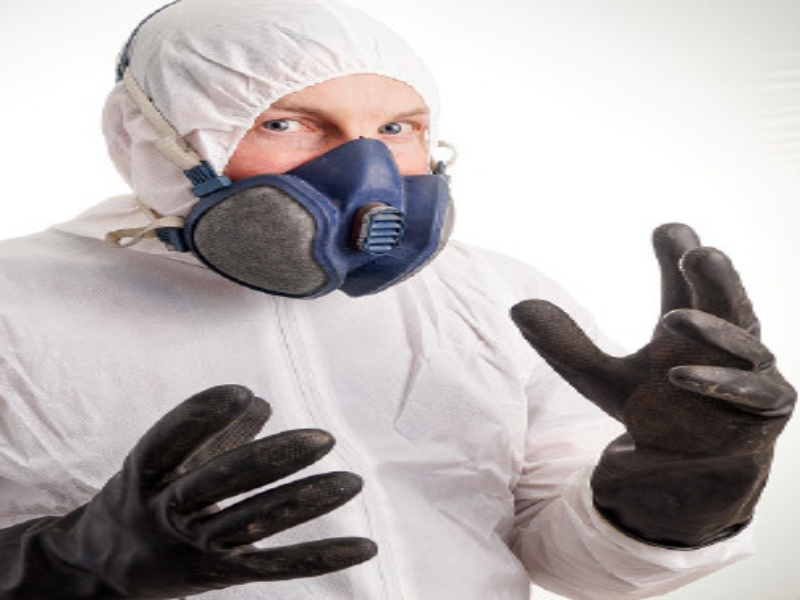mask: (98, 2, 483, 315)
